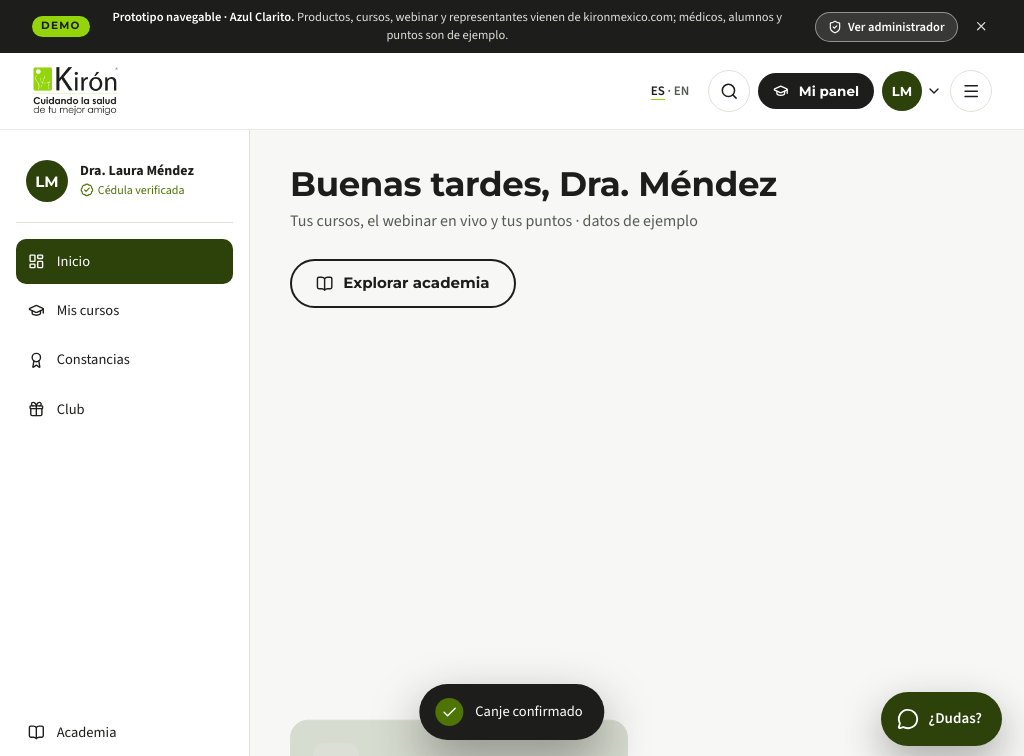
Test: panel del médico › inicio: cursos, constancias y puntos desde la API; el menú de usuario muestra los puntos
Click the button with aria-label "Mi cuenta" at x=912, y=91, box [882, 71, 942, 111]
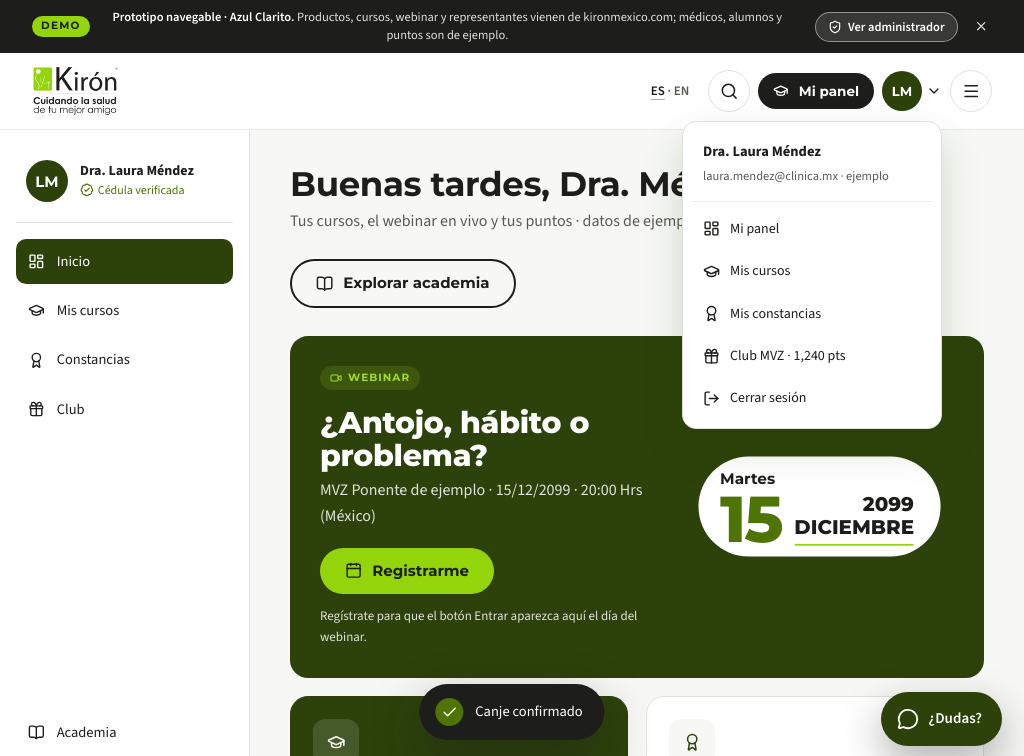
Check: the menu item "Club MVZ · 1,240 pts" is shown, box [703, 346, 846, 366]
